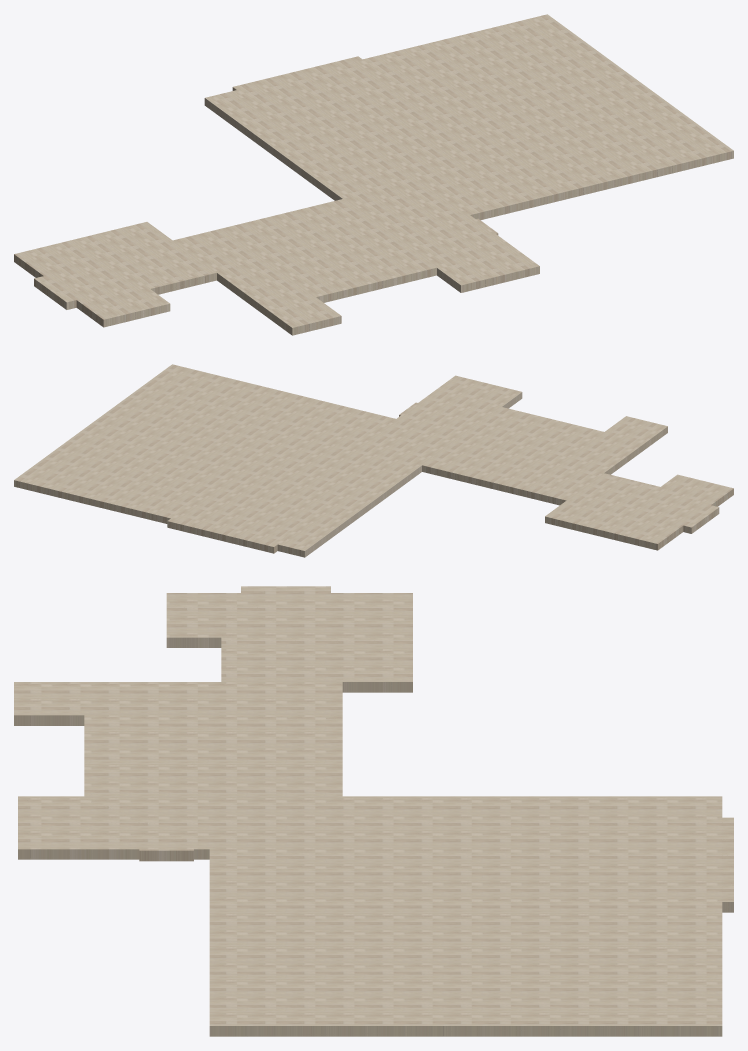
File: 1860_kitchen_Floor_LaytonLakeSilverDollar.gltf
3 renders of one model, top to bottom at view 1: azimuth 30°, elevation 25°; view 2: azimuth 150°, elevation 25°; view 3: azimuth 270°, elevation 25°, orthographic. The views are drawn at different scales.
Visible parts, largest first — view 1: Floor_Layton Lake Silver Dollar; view 2: Floor_Layton Lake Silver Dollar; view 3: Floor_Layton Lake Silver Dollar.
Boxes of the visible parts, bbox=[...] form: Floor_Layton Lake Silver Dollar: bbox=[14, 14, 733, 335]; Floor_Layton Lake Silver Dollar: bbox=[14, 364, 733, 557]; Floor_Layton Lake Silver Dollar: bbox=[14, 586, 733, 1036].
Bounding box in the file's own units: 26.6 × 0.3 × 18.4.
Materials: 1 (1 with a texture image).
